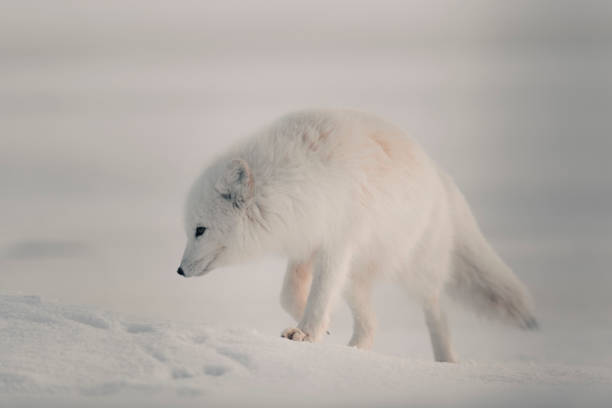arcticfox: (167, 179, 245, 283)
